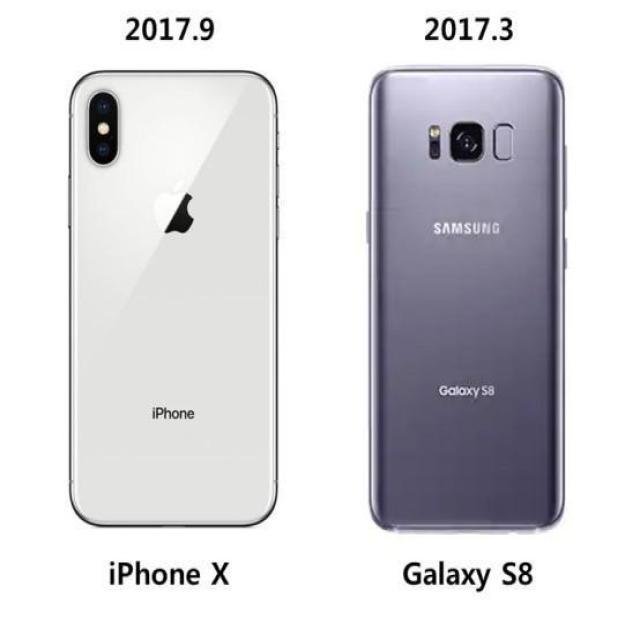smart phone: (342, 51, 595, 546), (55, 50, 295, 537)
